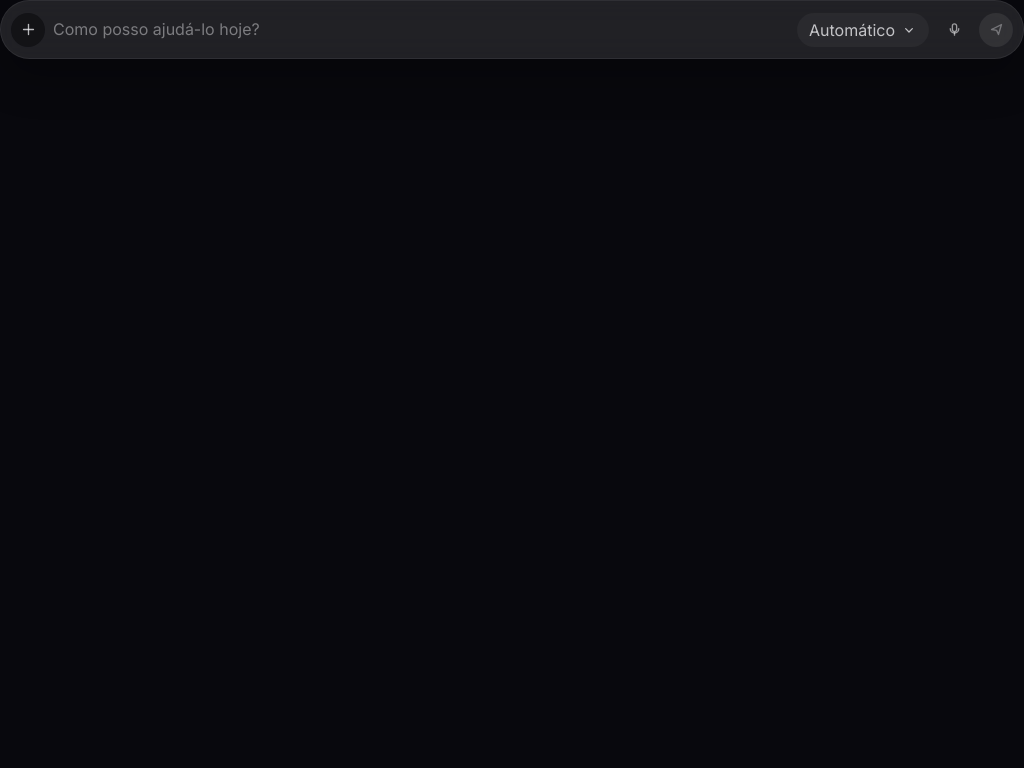
Test: CommandInputPanel › tenta fallback nativo quando a permissão do WebView é negada
What coordinates should you click on to do the following:
click the button named "Entrada por voz"
I would click on:
 (954, 30)
Its box is [937,13,971,47].
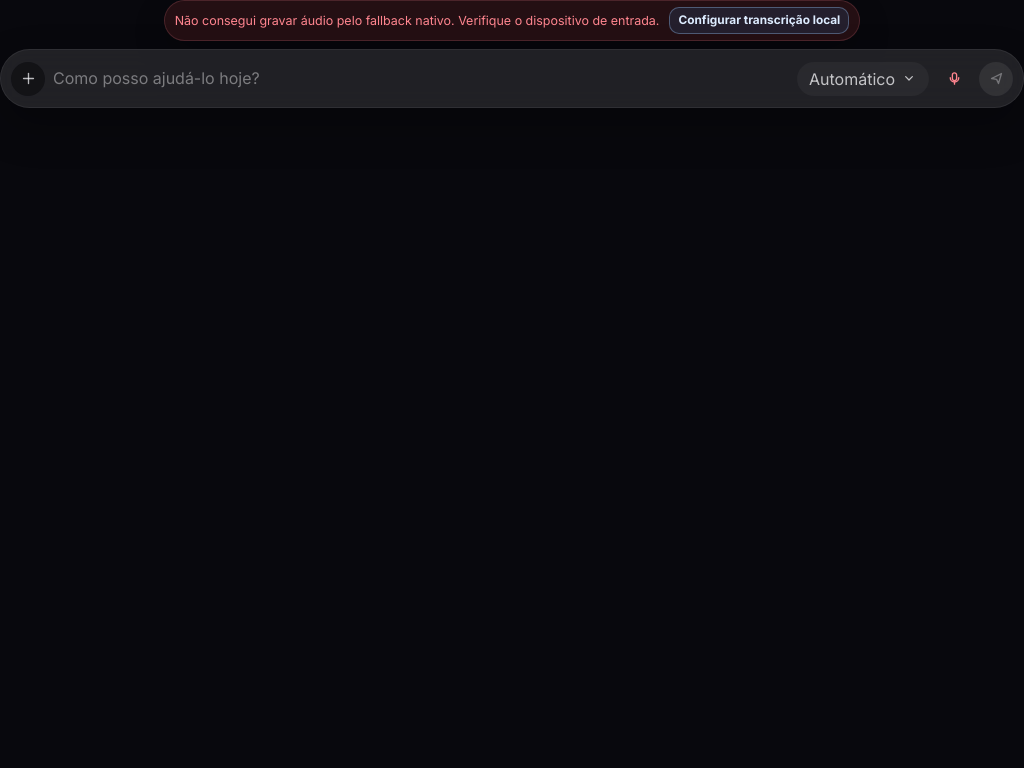
Check: the message shows "Não consegui gravar áudio pelo fallback nativo", box [175,13,660,28]
What coordinates should you click on to do the following:
click the button "Configurar transcrição local"
I would click on:
 (759, 20)
Its box is [670,7,849,34].
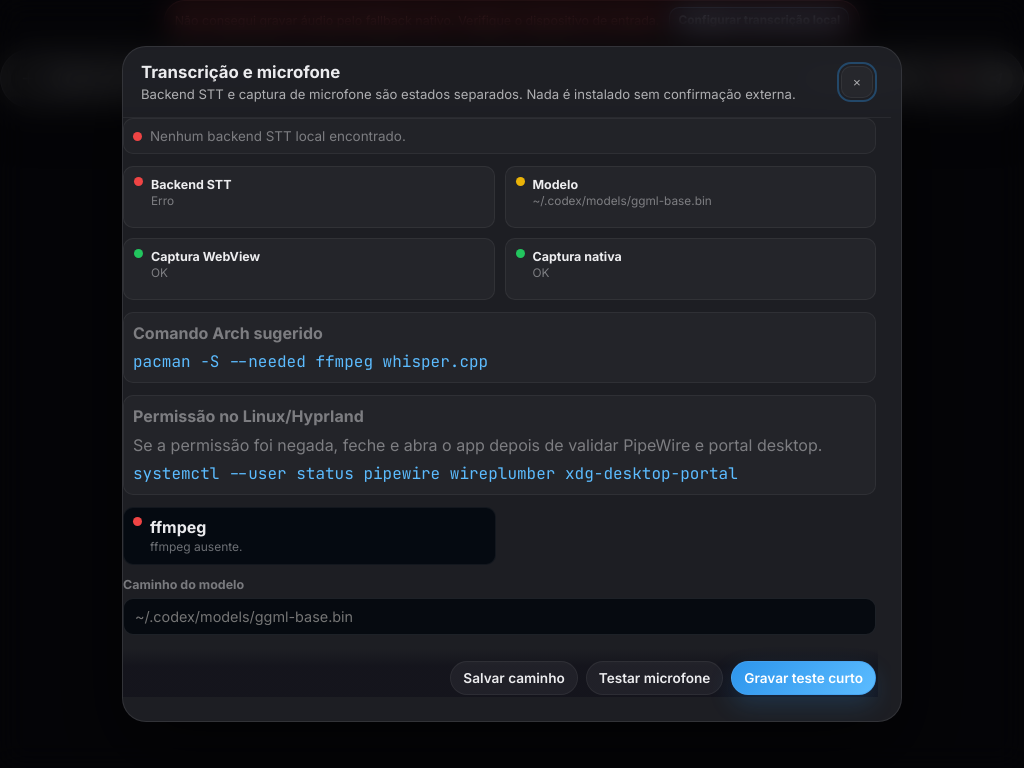
Check: the dialog "Transcrição e microfone" is shown
Check: the text "Permissão no Linux/Hyprland" is shown, box [133,406,364,426]
